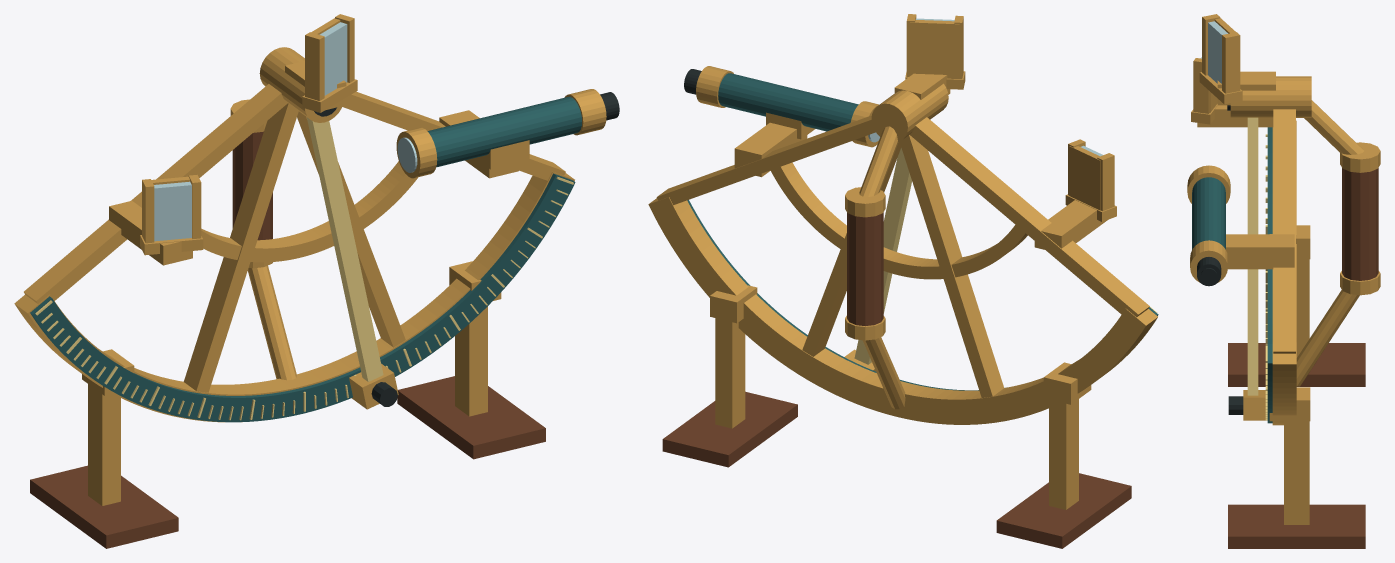
3 views of the same model, side by side, from view 1: azimuth 30°, elevation 25°; view 2: azimuth 150°, elevation 25°; view 3: azimuth 270°, elevation 25° (orthographic). The views are drawn at different scales.
Visible parts, largest first — view 1: Graduation_DarkArc, Frame_RadialRib_LeftInner, Frame_OuterFanArc, Frame_RadialRib_LeftEdge, DisplayFoot_Left, DisplayFoot_Right, Index_FixedArm, SightTube_Barrel, Frame_InnerBraceArc, DisplaySupport_Left, Frame_RadialRib_RightInner, DisplaySupport_Right (+15 smaller); view 2: Frame_OuterFanArc, Frame_RadialRib_LeftEdge, Frame_RadialRib_LeftInner, DisplayFoot_Right, DisplayFoot_Left, Frame_InnerBraceArc, SightTube_Barrel, Handle_WalnutGrip, Frame_RadialRib_RightEdge, DisplaySupport_Right, DisplaySupport_Left, IndexMirror_SeatBack (+16 smaller); view 3: DisplayFoot_Right, Frame_RadialRib_RightEdge, Handle_WalnutGrip, DisplayFoot_Left, Index_FixedArm, DisplaySupport_Right, Pivot_FixedAxle, SightTube_FrameBracket, Frame_OuterFanArc, SightTube_Barrel, Handle_LowerStrut, Graduation_DarkArc (+19 smaller).
Boxes of the visible parts, bbox=[...] form: Graduation_DarkArc: bbox=[30, 173, 575, 422]; Frame_RadialRib_LeftInner: bbox=[183, 103, 298, 392]; Frame_OuterFanArc: bbox=[14, 172, 574, 422]; Frame_RadialRib_LeftEdge: bbox=[24, 84, 287, 303]; DisplayFoot_Left: bbox=[30, 465, 178, 548]; DisplayFoot_Right: bbox=[397, 376, 545, 459]; Index_FixedArm: bbox=[306, 117, 383, 381]; SightTube_Barrel: bbox=[427, 96, 581, 167]; Frame_InnerBraceArc: bbox=[201, 161, 417, 262]; DisplaySupport_Left: bbox=[88, 384, 120, 505]; Frame_RadialRib_RightInner: bbox=[297, 111, 405, 347]; DisplaySupport_Right: bbox=[455, 306, 487, 416]; Frame_OuterFanArc: bbox=[648, 197, 1157, 424]; Frame_RadialRib_LeftEdge: bbox=[910, 117, 1149, 317]; Frame_RadialRib_LeftInner: bbox=[899, 135, 1003, 397]; DisplayFoot_Right: bbox=[662, 391, 797, 467]; DisplayFoot_Left: bbox=[996, 473, 1131, 548]; Frame_InnerBraceArc: bbox=[770, 162, 1027, 279]; SightTube_Barrel: bbox=[718, 73, 858, 131]; Handle_WalnutGrip: bbox=[847, 212, 883, 326]; Frame_RadialRib_RightEdge: bbox=[656, 115, 875, 205]; DisplaySupport_Right: bbox=[715, 318, 745, 428]; DisplaySupport_Left: bbox=[1049, 399, 1078, 509]; IndexMirror_SeatBack: bbox=[909, 20, 959, 78]; DisplayFoot_Right: bbox=[1228, 504, 1365, 548]; Frame_RadialRib_RightEdge: bbox=[1273, 109, 1295, 353]; Handle_WalnutGrip: bbox=[1342, 168, 1378, 280]; DisplayFoot_Left: bbox=[1228, 343, 1365, 386]; Index_FixedArm: bbox=[1247, 117, 1258, 395]; DisplaySupport_Right: bbox=[1284, 421, 1309, 524]; Pivot_FixedAxle: bbox=[1230, 76, 1311, 117]; SightTube_FrameBracket: bbox=[1226, 234, 1294, 269]; Frame_OuterFanArc: bbox=[1272, 120, 1296, 425]; SightTube_Barrel: bbox=[1192, 177, 1225, 249]; Handle_LowerStrut: bbox=[1296, 290, 1359, 386]; Graduation_DarkArc: bbox=[1267, 127, 1272, 423].
Bounding box in the file's own units: 0.853 × 0.696 × 0.286.
